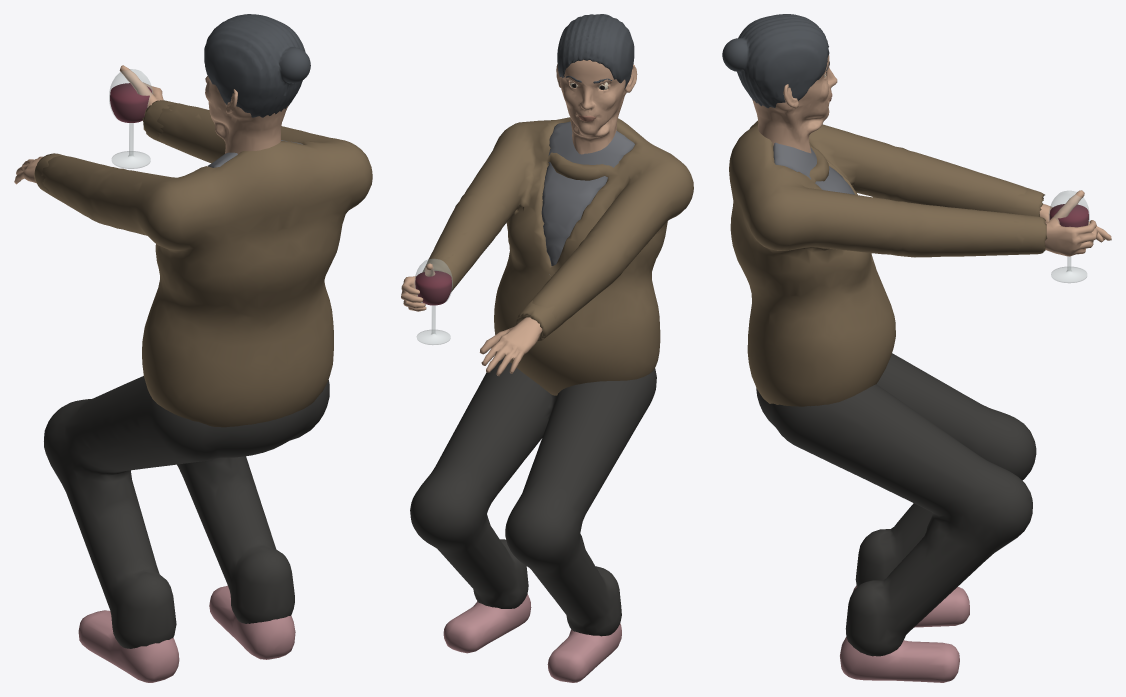
Rendered from slippers_a.glb.
3 renders of one model, left to right at view 1: azimuth 30°, elevation 25°; view 2: azimuth 150°, elevation 25°; view 3: azimuth 270°, elevation 25°, orthographic. The views are drawn at different scales.
Parts seen in each view (by area): view 1: slippers_a_body, slippers_a_head, wine, slippers_a_hands, wine_wine; view 2: slippers_a_body, slippers_a_head, slippers_a_hands, wine, wine_wine; view 3: slippers_a_body, slippers_a_head, slippers_a_hands, wine, wine_wine.
Part boxes in pixels (x1,y1,x2,y2): slippers_a_body: [41, 103, 372, 682]; slippers_a_head: [204, 14, 310, 154]; wine: [109, 69, 152, 168]; slippers_a_hands: [14, 65, 180, 193]; wine_wine: [110, 83, 151, 122]; slippers_a_body: [410, 117, 693, 682]; slippers_a_head: [556, 14, 637, 154]; slippers_a_hands: [401, 252, 562, 375]; wine: [414, 259, 452, 344]; wine_wine: [415, 271, 451, 305]; slippers_a_body: [729, 120, 1036, 682]; slippers_a_head: [722, 14, 837, 153]; slippers_a_hands: [1007, 187, 1111, 256]; wine: [1049, 191, 1089, 282]; wine_wine: [1049, 204, 1088, 227].
Bounding box in the file's own units: 0.4673 × 1.38 × 0.7704.
